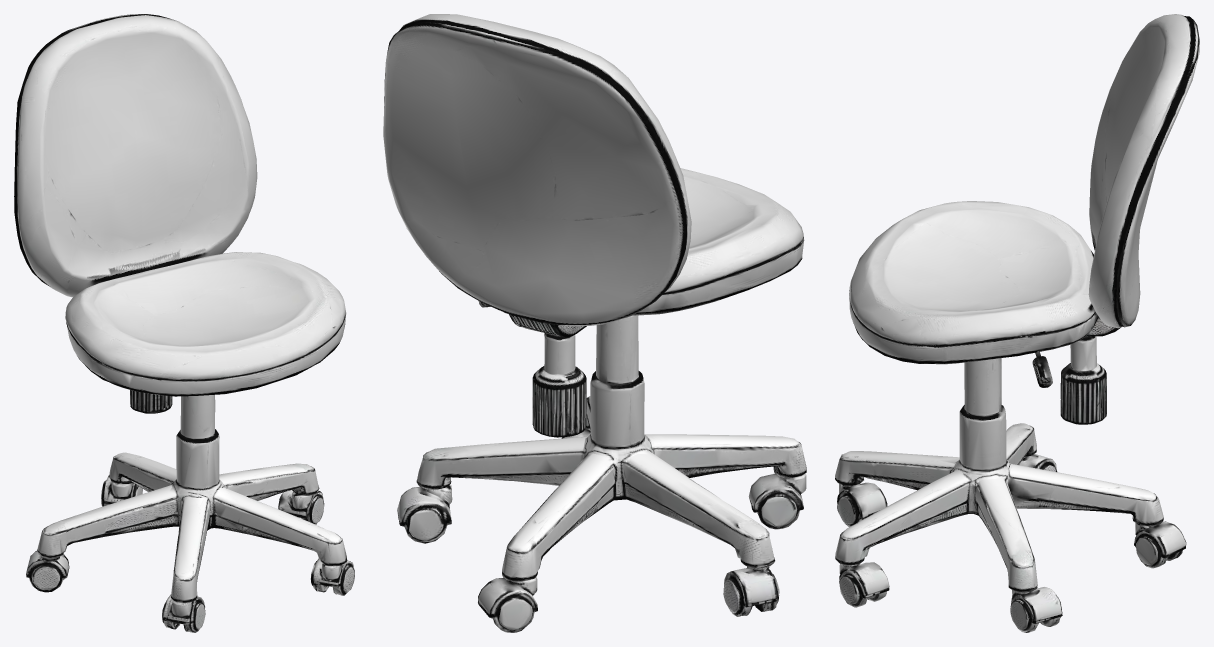
The model's file is model-13-office-chair.glb.
3 renders of one model, left to right at view 1: azimuth 30°, elevation 25°; view 2: azimuth 150°, elevation 25°; view 3: azimuth 270°, elevation 25°, orthographic. The views are drawn at different scales.
Parts seen in each view (by area): view 1: node_0; view 2: node_0; view 3: node_0.
Boxes of the visible parts, <box> form: node_0: <box>14,14,354,632</box>; node_0: <box>383,14,806,632</box>; node_0: <box>835,14,1199,632</box>.
Size of the model in its own units: 0.6432 by 0.9878 by 0.6238.
Materials: 1 (1 with a texture image).
